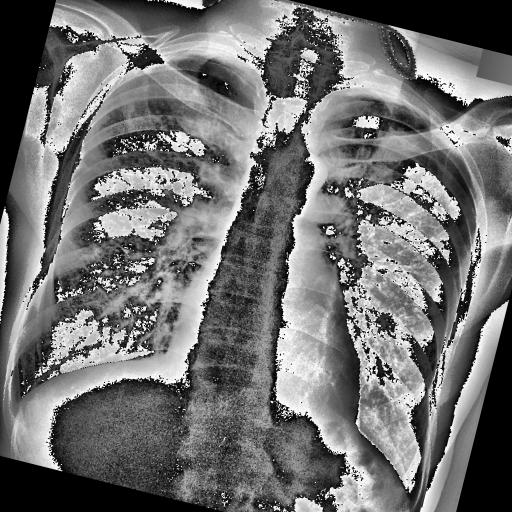10- Pleural effusion: (0, 388, 31, 416)
11- Pleural thickening: (132, 30, 246, 98), (148, 33, 254, 97), (333, 76, 446, 131), (148, 37, 268, 84), (338, 82, 432, 118), (333, 78, 424, 115), (0, 388, 31, 416), (72, 154, 94, 176)
